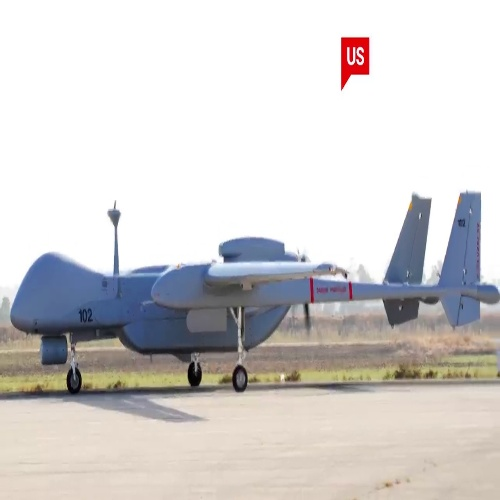uav393: (4, 193, 500, 393)
